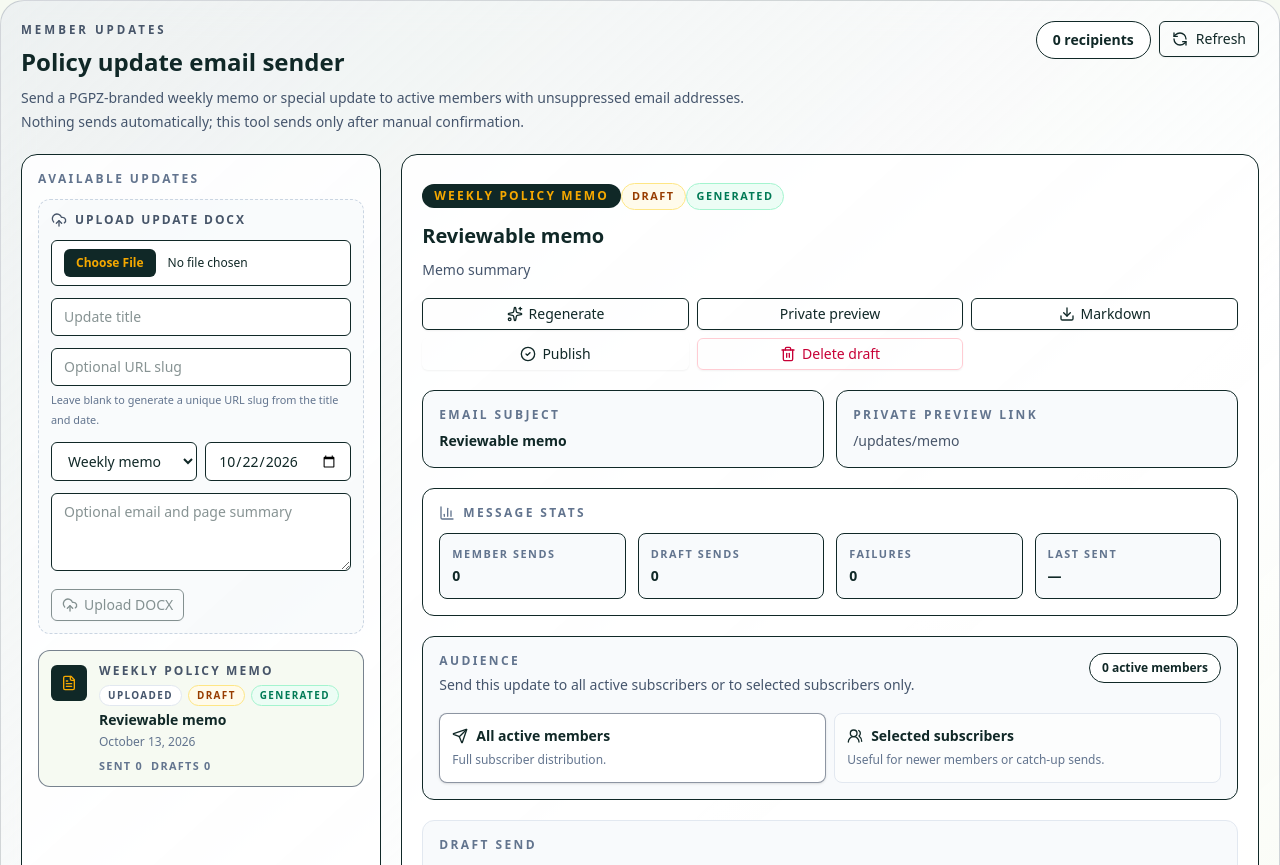
Test: PolicyUpdateMailer publication review › submits the selected revision 2026-10-13T12:00:00.000Z and surfaces a stale-review conflict
Click the button "Publish".
click(556, 354)  # box [422,338,689,370]
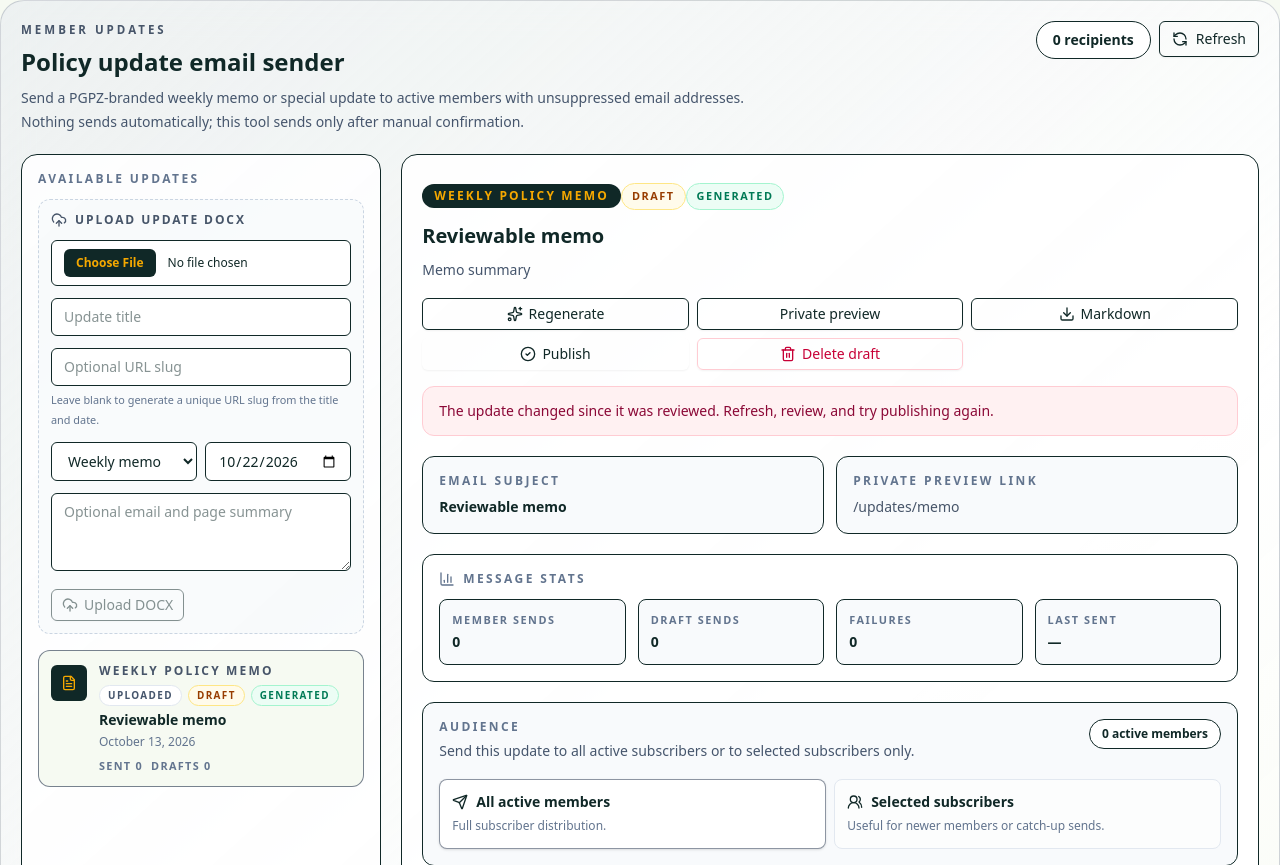
Result: the text "The update changed since it was reviewed" is shown at [439,401,994,420]
